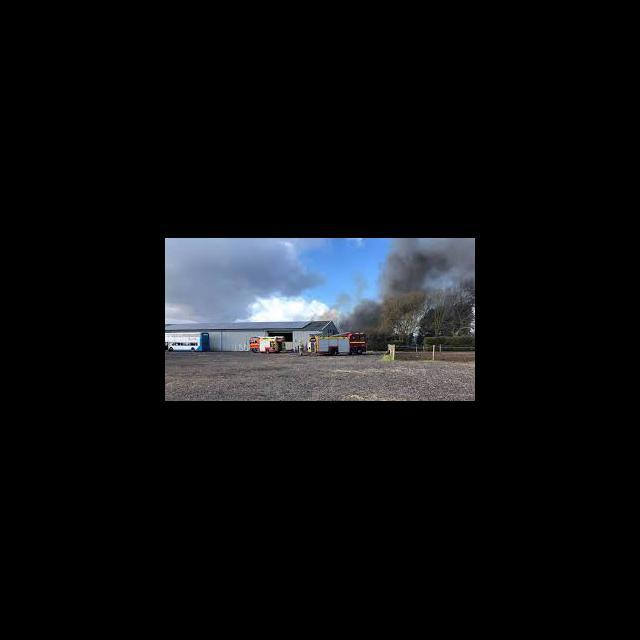Smoke: (340, 242, 473, 331)
